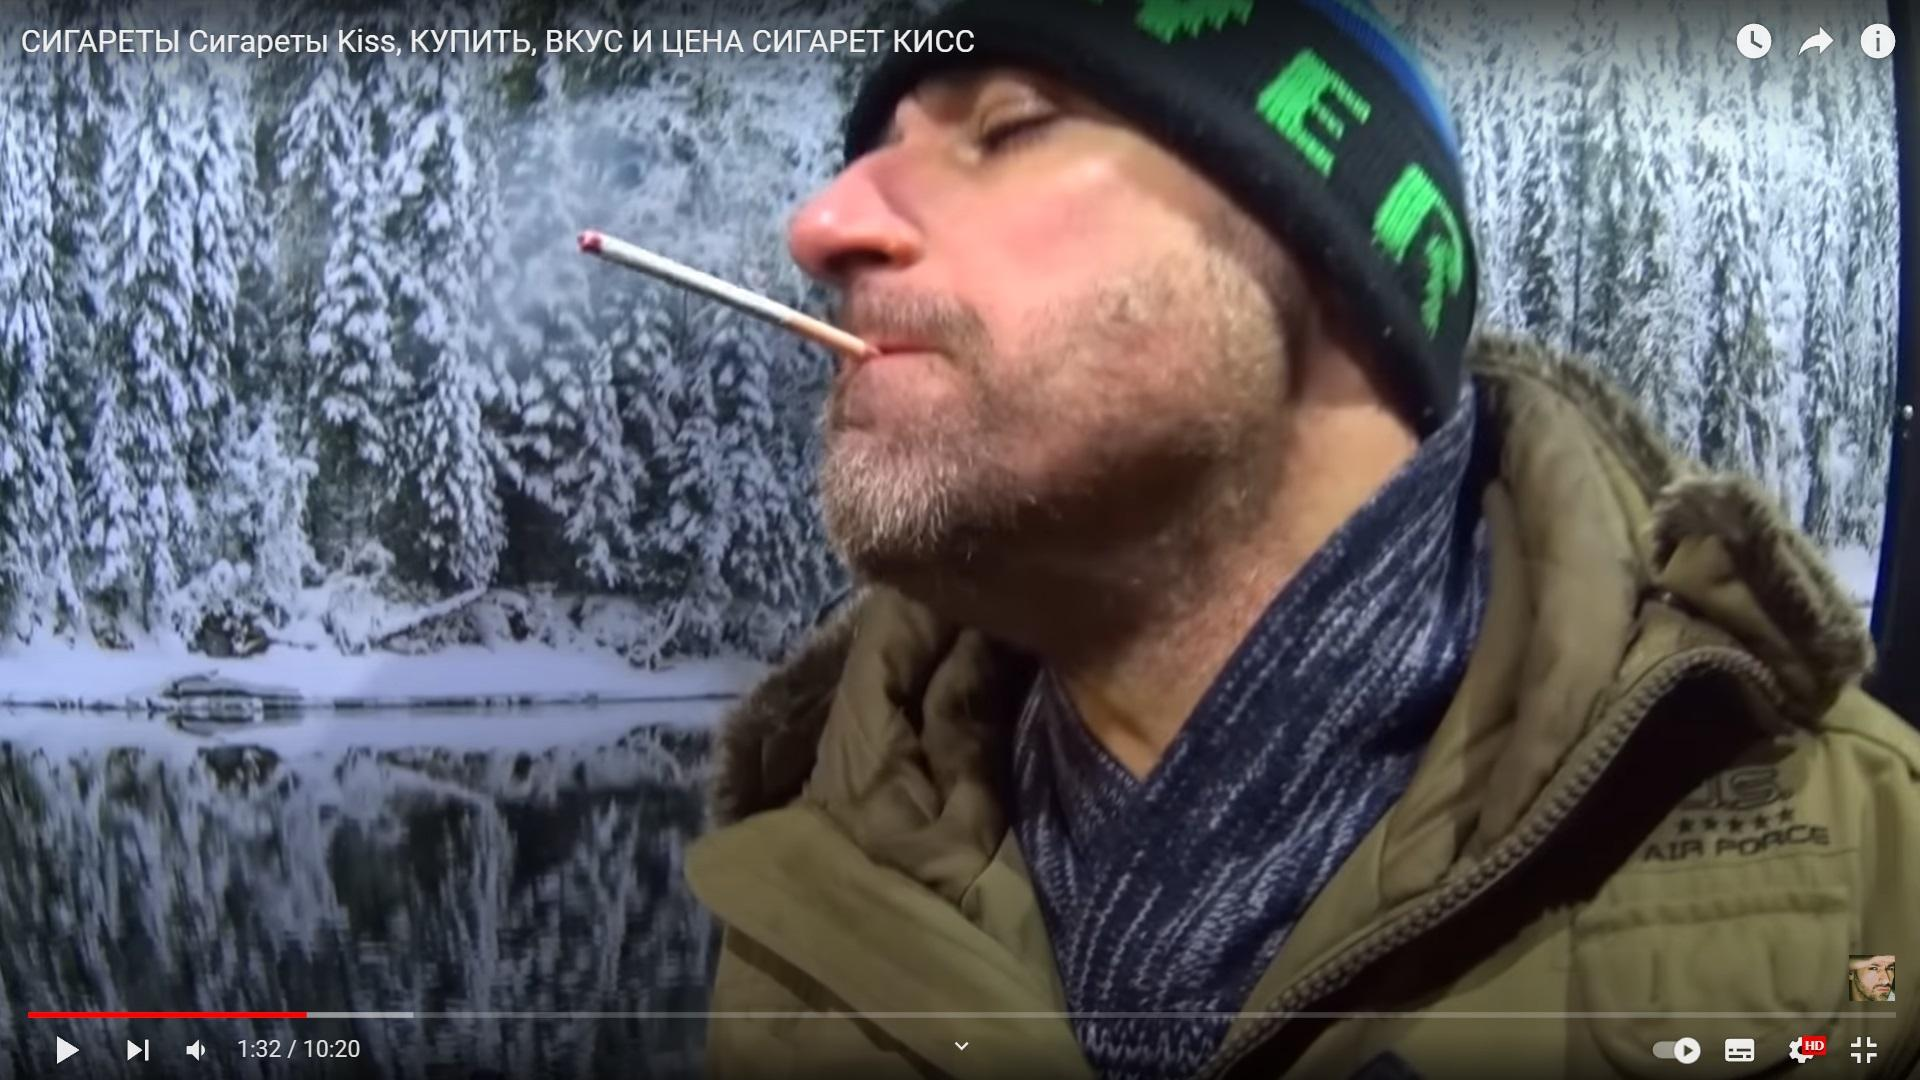cigarette: (575, 229, 884, 363)
